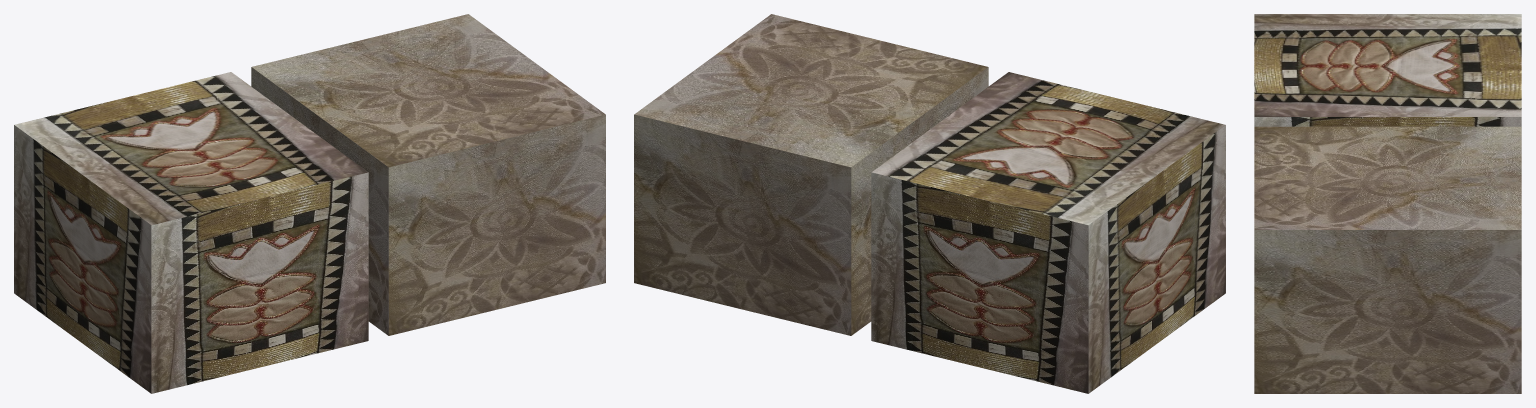
File: _priestShirt.FBX
The picture shows the model from 3 angles, left to right: view 1: azimuth 30°, elevation 25°; view 2: azimuth 150°, elevation 25°; view 3: azimuth 270°, elevation 25°; orthographic projection. The views are drawn at different scales.
Parts seen in each view (by area): view 1: Box002, Box003; view 2: Box002, Box003; view 3: Box003, Box002.
Boxes of the visible parts, x1=… form: Box002: x1=14, y1=72, x2=368, y2=393; Box003: x1=251, y1=14, x2=605, y2=335; Box002: x1=871, y1=72, x2=1225, y2=393; Box003: x1=634, y1=14, x2=988, y2=335; Box003: x1=1254, y1=126, x2=1521, y2=393; Box002: x1=1254, y1=14, x2=1521, y2=126.
Bounding box in the file's own units: 57.21 × 20.29 × 29.95.
